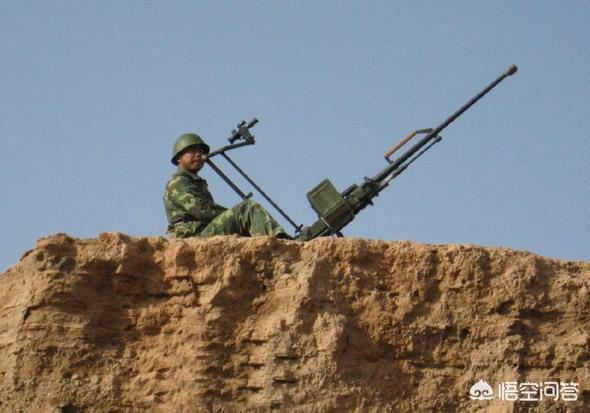MIL_SPG: (296, 66, 517, 240)
